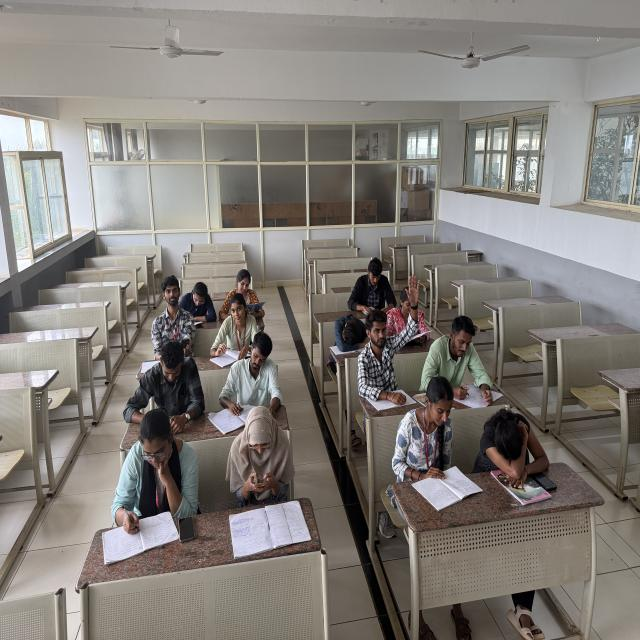Hand Rising: (358, 276, 426, 416)
Reading: (389, 370, 471, 499), (342, 254, 394, 319), (384, 284, 434, 344), (216, 268, 266, 316)
Sleeping: (476, 408, 552, 486), (328, 313, 372, 363)
Using Phone: (223, 407, 297, 528), (116, 338, 204, 437), (148, 275, 192, 355)
Writing: (104, 407, 207, 566), (422, 311, 505, 414), (211, 324, 285, 432), (208, 289, 260, 377), (177, 279, 216, 326)
